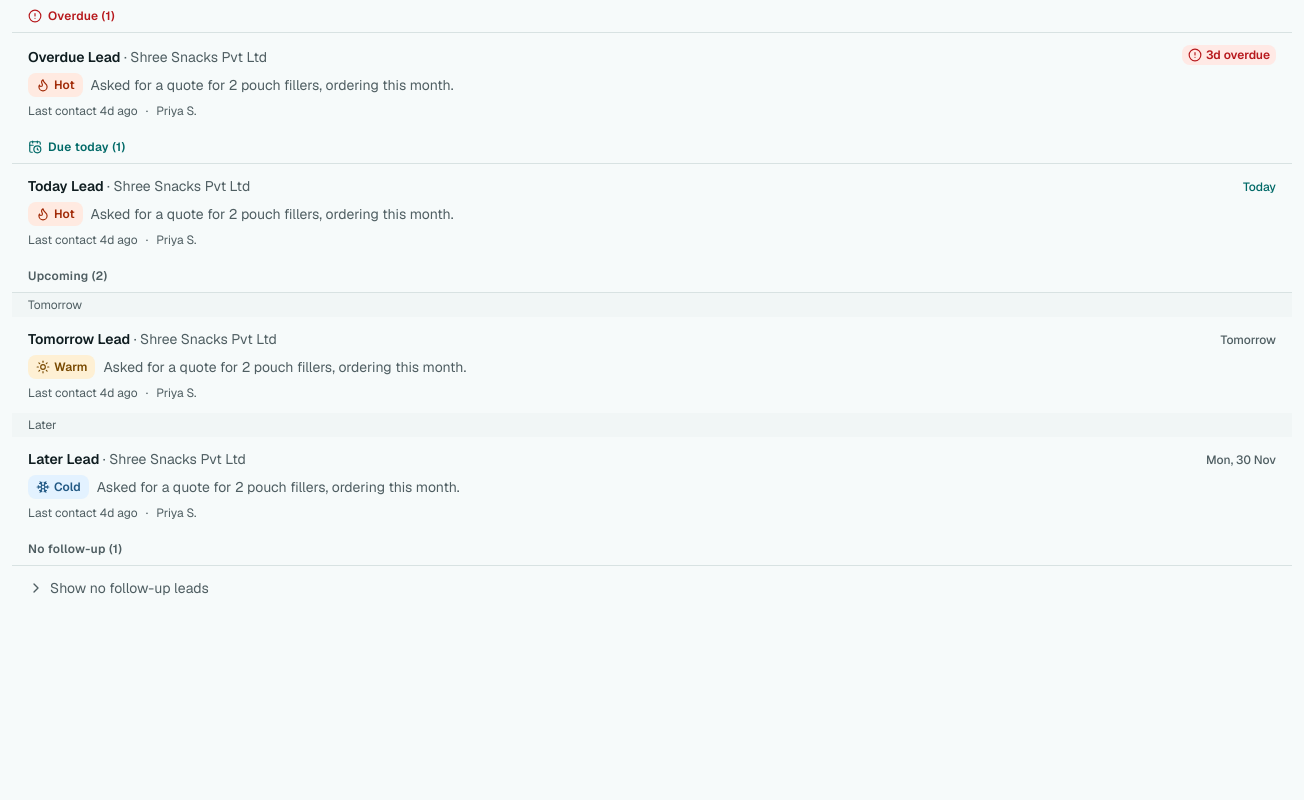
Test: QueuePanel › keeps do-not-contact leads collapsed until asked
Check: the link "Blocked Lead" is not shown
Click the button "Show no follow-up leads": [68, 588] box [12,566,1292,610]
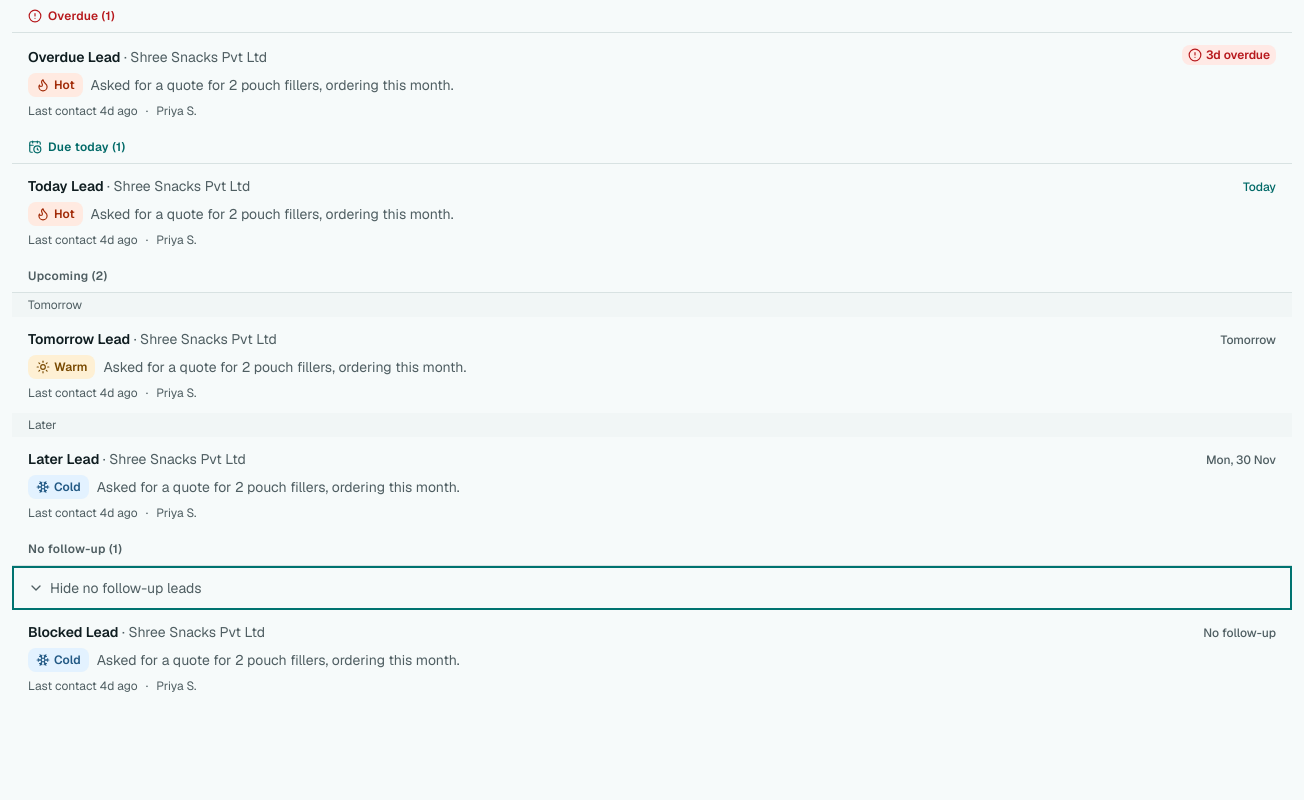
Check: the link "Blocked Lead" is shown, box [12,610,1292,706]
